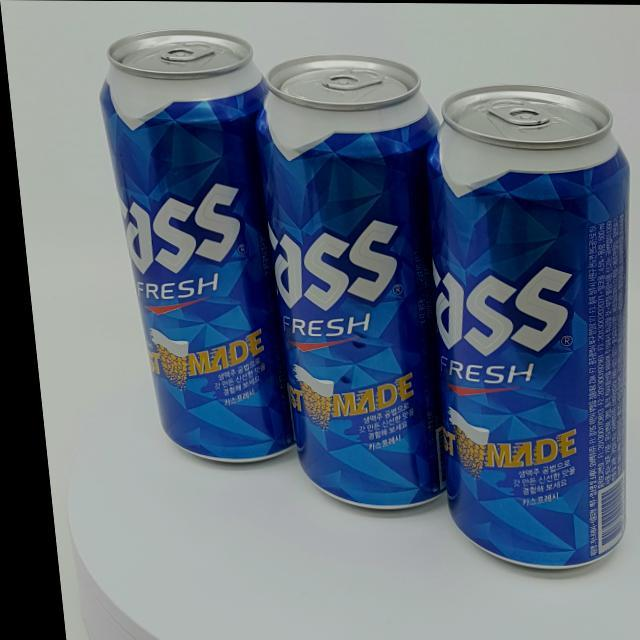beer-can: (402, 82, 640, 569), (246, 53, 470, 509), (92, 28, 299, 463)
